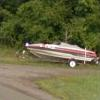Boat: (21, 29, 97, 70)
